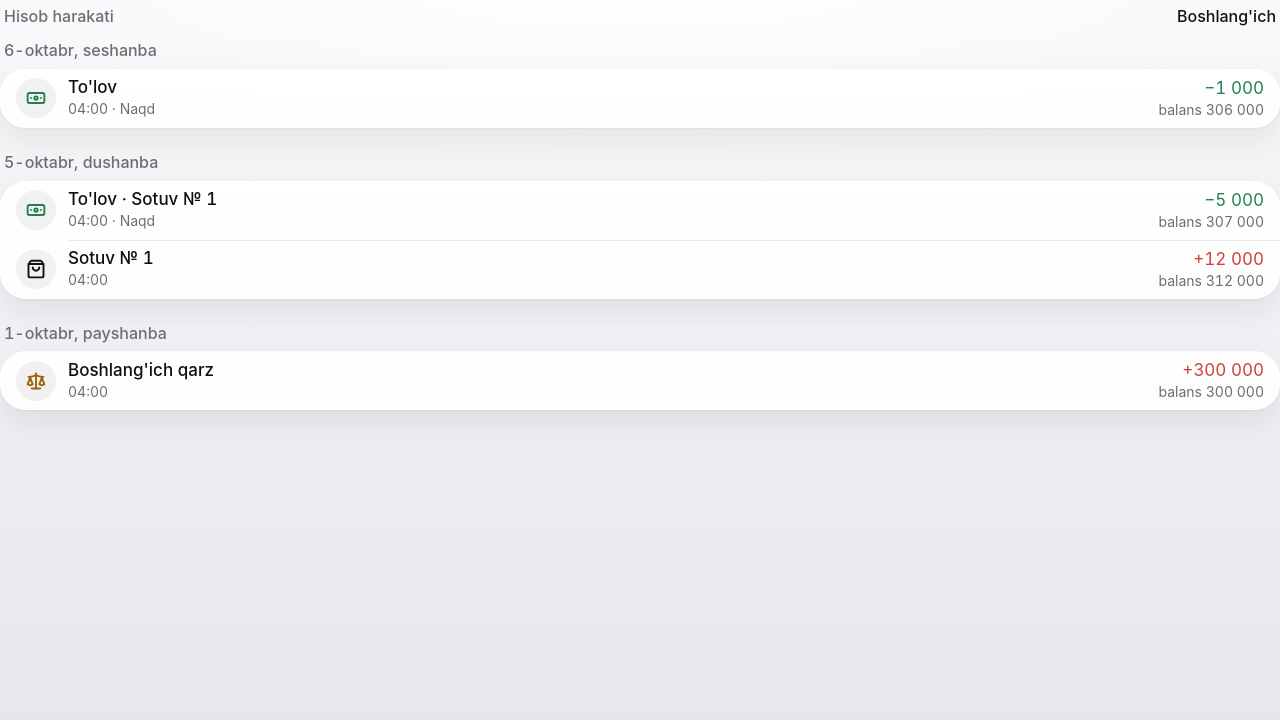
Test: an opening balance is added from the statement's heading
Expected: the element named "Hisob harakati" is shown, [0,40,1279,410]
Click the button "Boshlang'ich".
click(1226, 16)  # box [1177,0,1276,32]
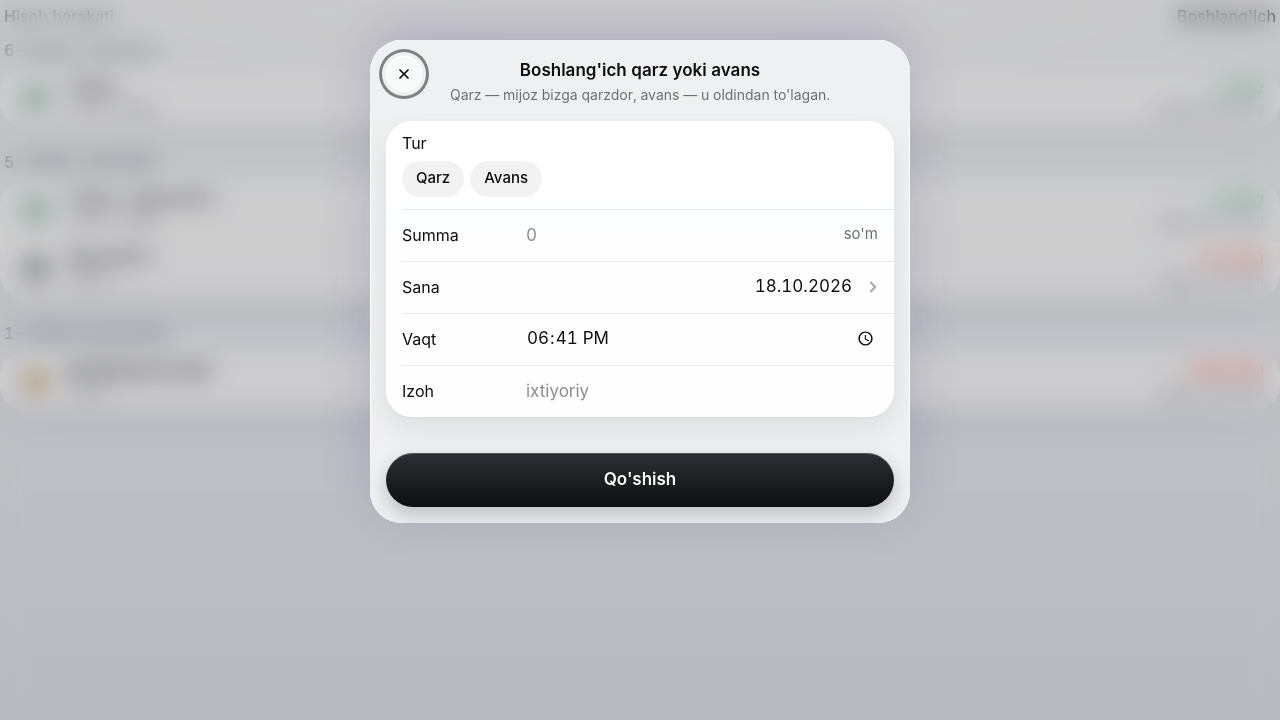
Result: the dialog "Boshlang'ich qarz yoki avans" is shown at [370,40,910,522]
